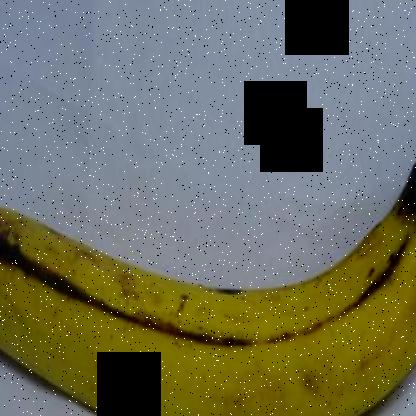ripe: (1, 119, 416, 415)
